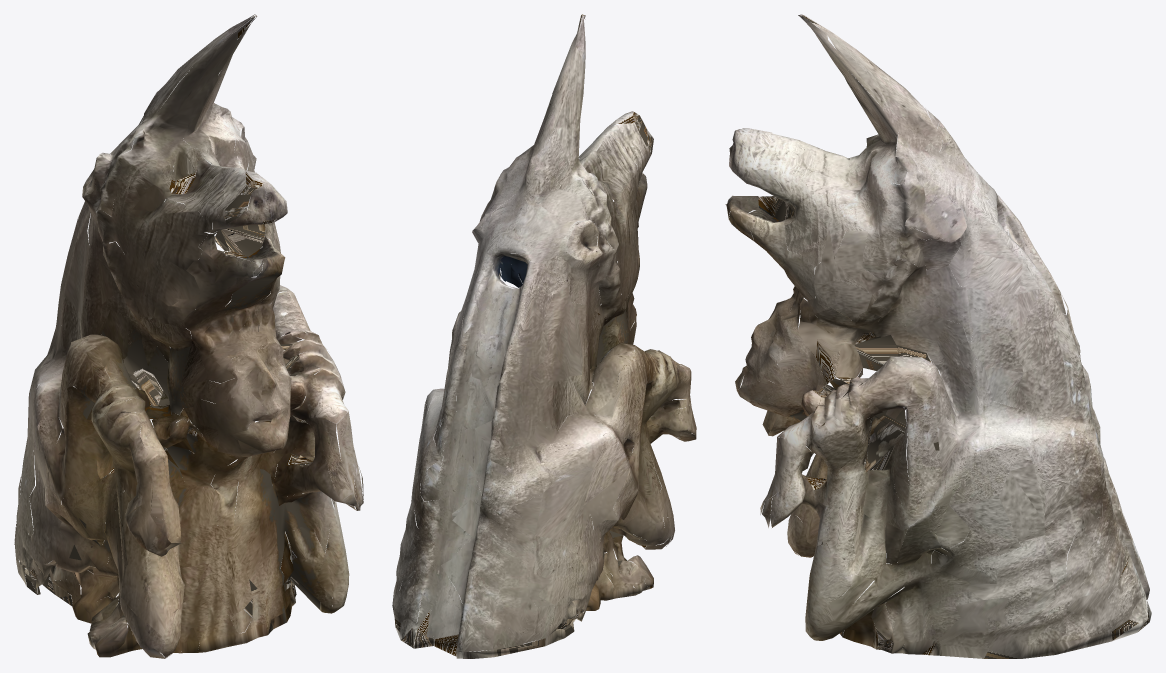
The model's file is 0_unicorn.glb.
3 views of the same model, side by side, from view 1: azimuth 30°, elevation 25°; view 2: azimuth 150°, elevation 25°; view 3: azimuth 270°, elevation 25° (orthographic). The views are drawn at different scales.
Parts seen in each view (by area): view 1: Mesh_0; view 2: Mesh_0; view 3: Mesh_0.
Boxes of the visible parts, box(x1,y1,x2,y2) form: Mesh_0: box(14, 14, 363, 658); Mesh_0: box(392, 14, 696, 658); Mesh_0: box(725, 14, 1151, 658).
Bounding box in the file's own units: 1.74 × 4.33 × 2.79.
7 materials, 7 textured.
